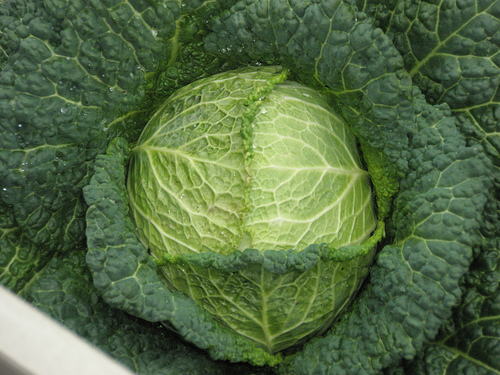cabbage: (1, 0, 498, 374)
